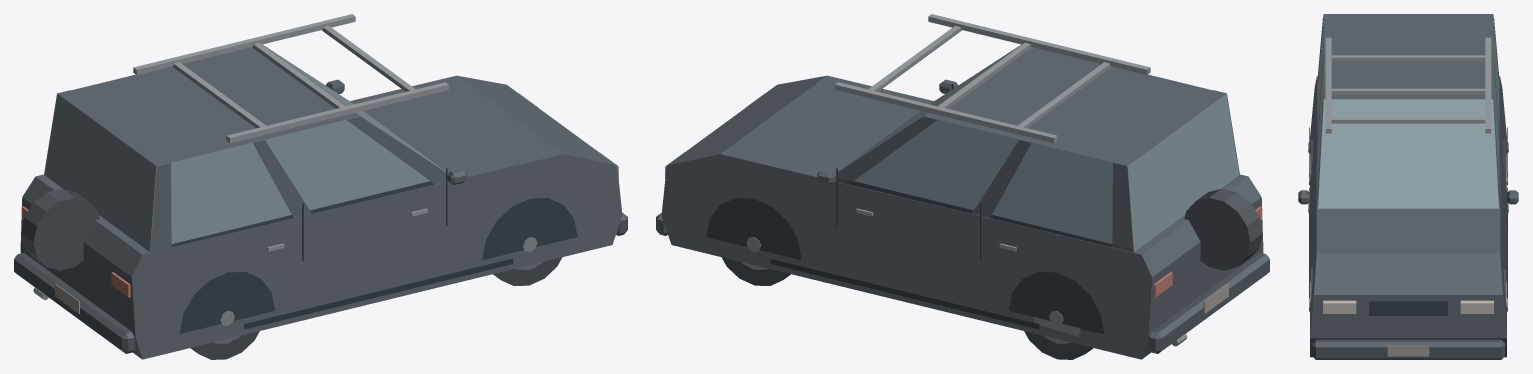
File: vehiculo_suv.glb
3 views of the same model, side by side, from view 1: azimuth 30°, elevation 25°; view 2: azimuth 150°, elevation 25°; view 3: azimuth 270°, elevation 25° (orthographic). The views are drawn at different scales.
Size of the model in its own units: 5.5 by 2.04 by 2.24.
